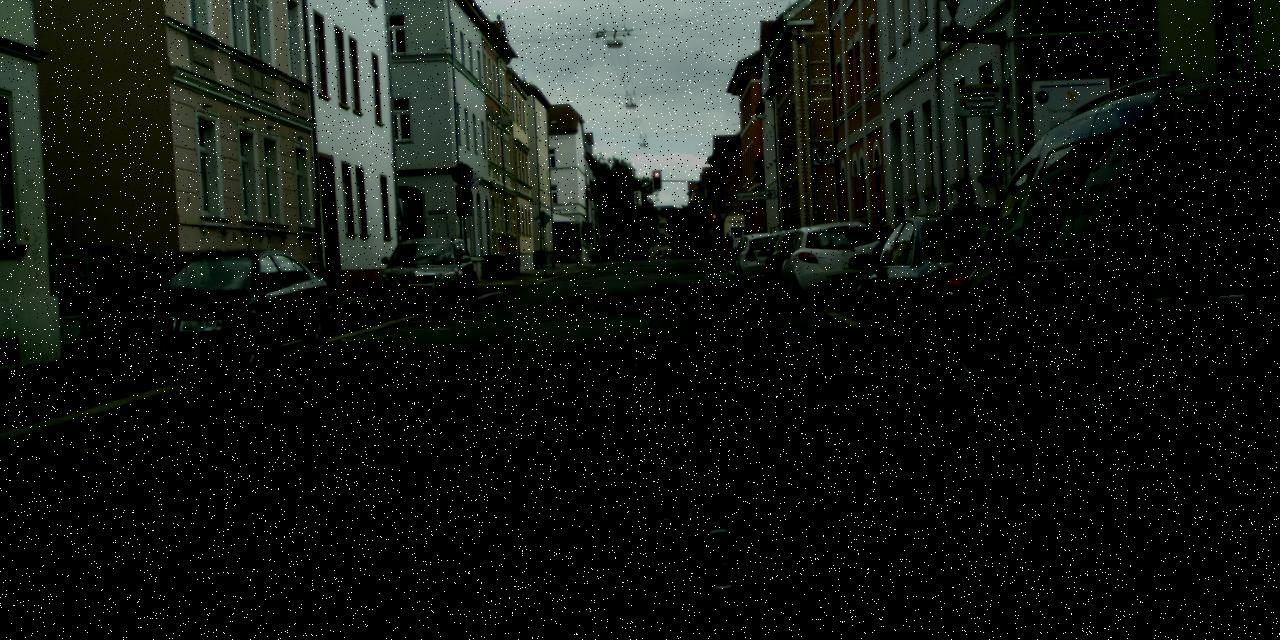ped: (945, 187, 990, 298), (874, 224, 908, 307), (722, 232, 732, 258), (715, 234, 725, 258)
